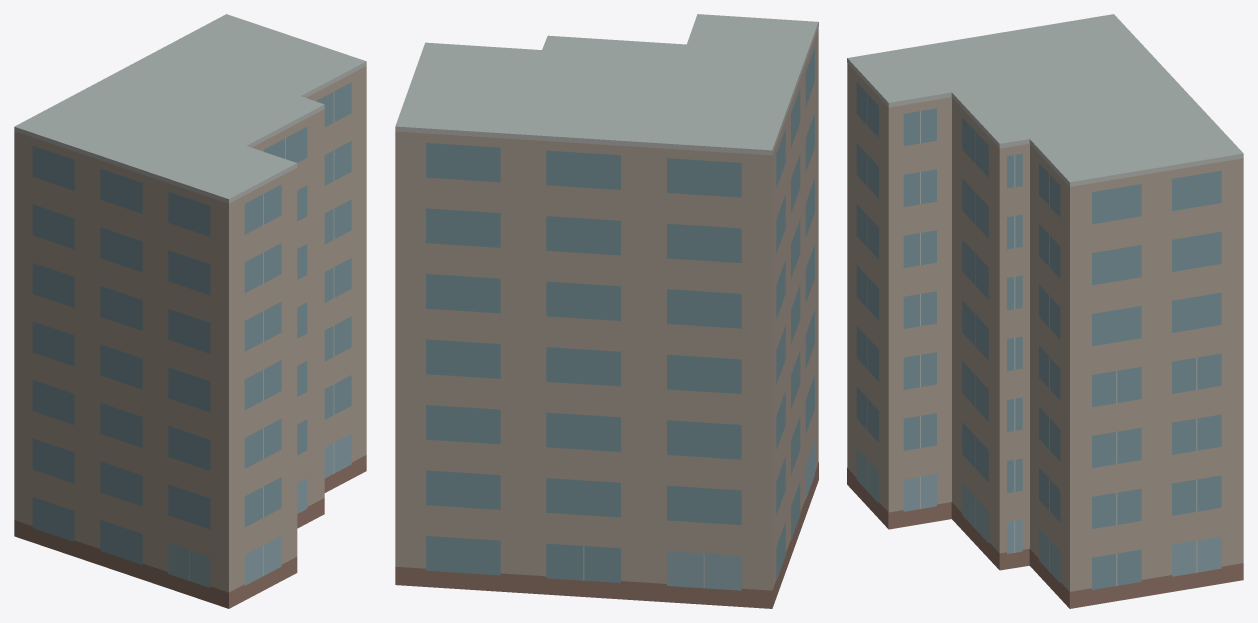
The model's file is survey-upis-32858388.glb.
The picture shows the model from 3 angles, left to right: view 1: azimuth 30°, elevation 25°; view 2: azimuth 150°, elevation 25°; view 3: azimuth 270°, elevation 25°; orthographic projection. The views are drawn at different scales.
Parts seen in each view (by area): view 1: survey-upis-32858388.tmp; view 2: survey-upis-32858388.tmp; view 3: survey-upis-32858388.tmp.
Boxes of the visible parts, bbox=[...] form: survey-upis-32858388.tmp: bbox=[14, 14, 366, 608]; survey-upis-32858388.tmp: bbox=[395, 14, 818, 608]; survey-upis-32858388.tmp: bbox=[847, 14, 1243, 608].
Size of the model in its own units: 18.88 by 22.3 by 18.8.
